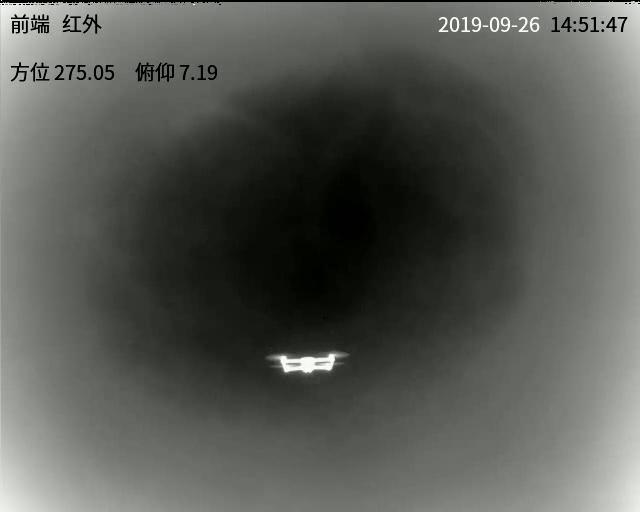DRONE: (271, 351, 343, 375)
